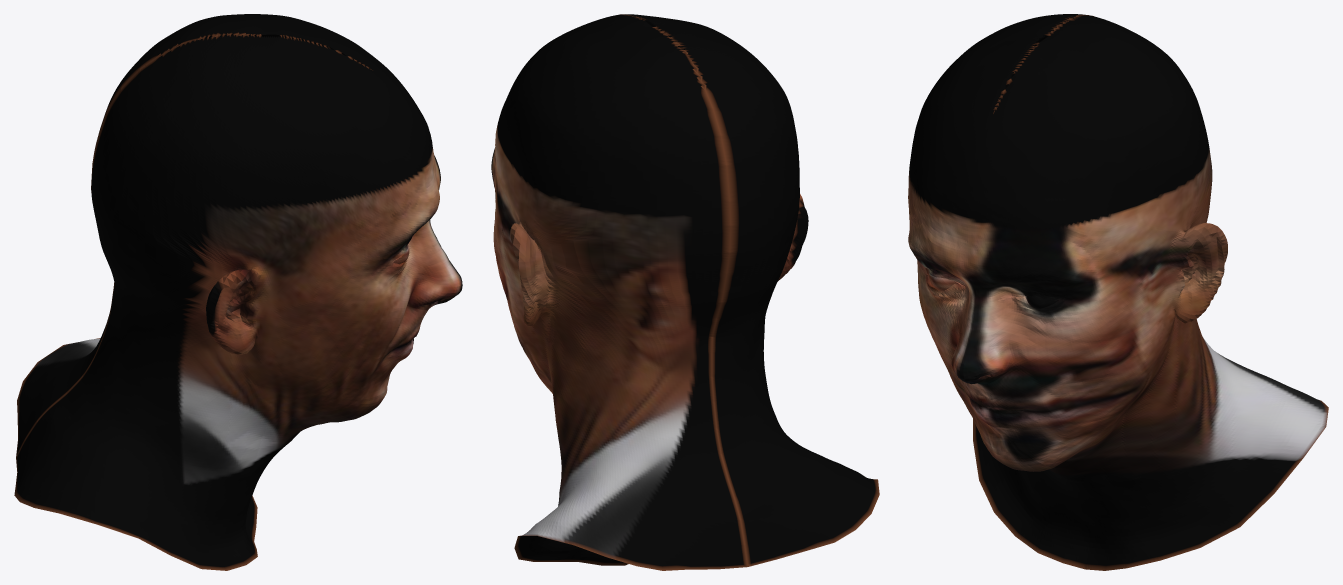
The model's file is mesh_coarse_detail.obj.
3 renders of one model, left to right at view 1: azimuth 30°, elevation 25°; view 2: azimuth 150°, elevation 25°; view 3: azimuth 270°, elevation 25°, orthographic.
Size of the model in its own units: 0.2531 by 0.3327 by 0.2394.
